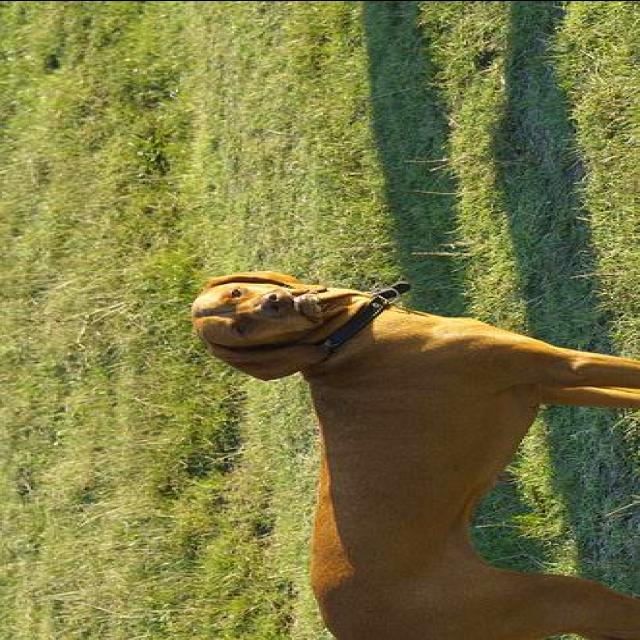vizsla: (191, 268, 637, 640)
